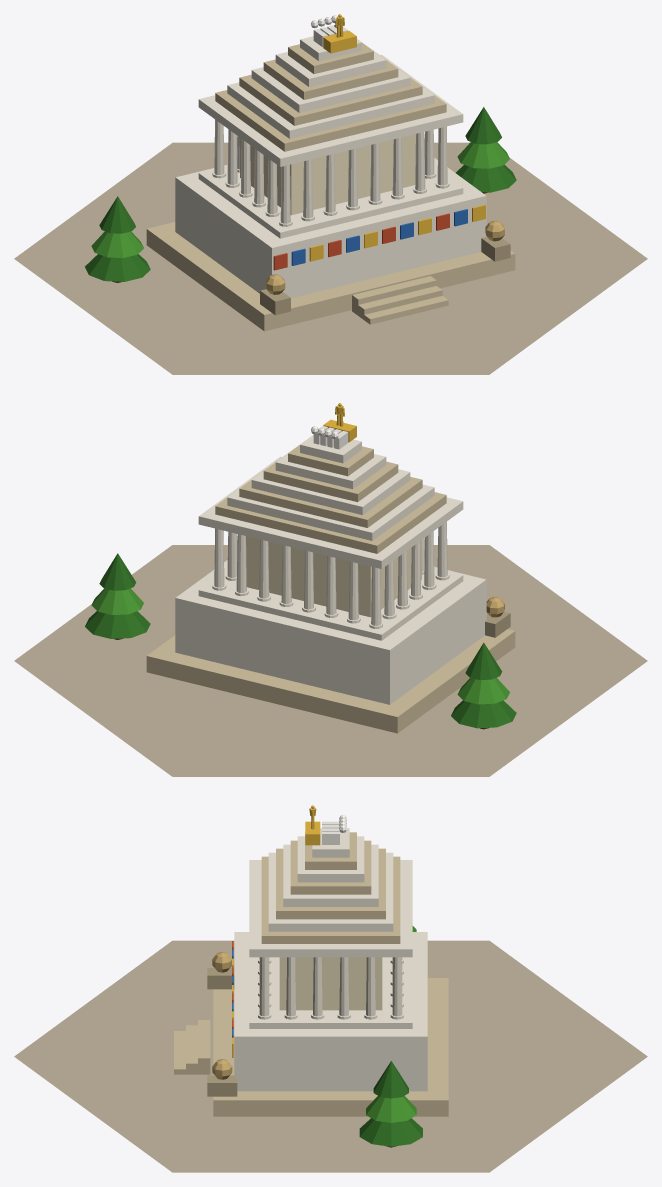
The model's file is wonder_halicarnassus_mausoleum.fbx.
The picture shows the model from 3 angles, top to bottom: view 1: azimuth 30°, elevation 25°; view 2: azimuth 150°, elevation 25°; view 3: azimuth 270°, elevation 25°; orthographic projection.
Parts seen in each view (by area): view 1: wonder_halicarnassus_mausoleum; view 2: wonder_halicarnassus_mausoleum; view 3: wonder_halicarnassus_mausoleum.
Part boxes in pixels (<box>): wonder_halicarnassus_mausoleum: <box>14,14,647,374</box>; wonder_halicarnassus_mausoleum: <box>14,403,647,776</box>; wonder_halicarnassus_mausoleum: <box>14,805,647,1172</box>.
Bounding box in the file's own units: 182 × 91.79 × 210.
